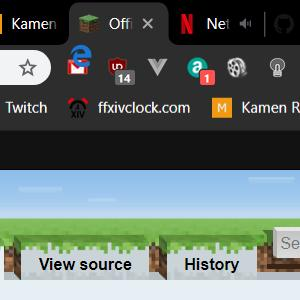edge: (70, 44, 92, 67)
